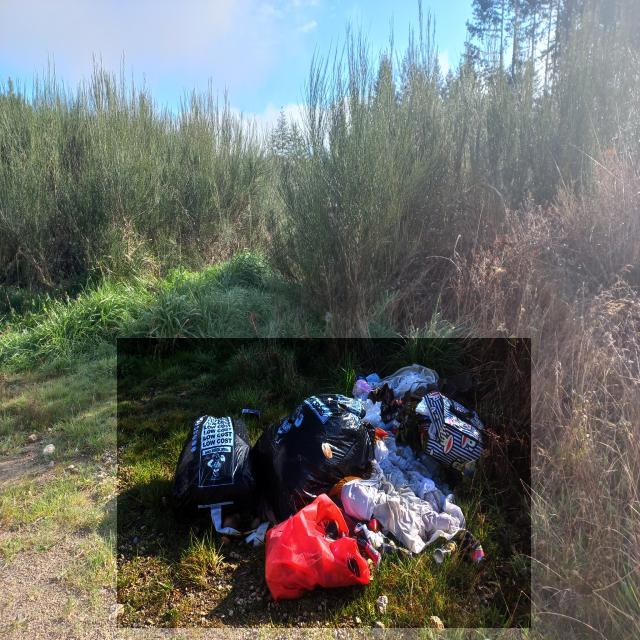dumping: (117, 338, 531, 628)
